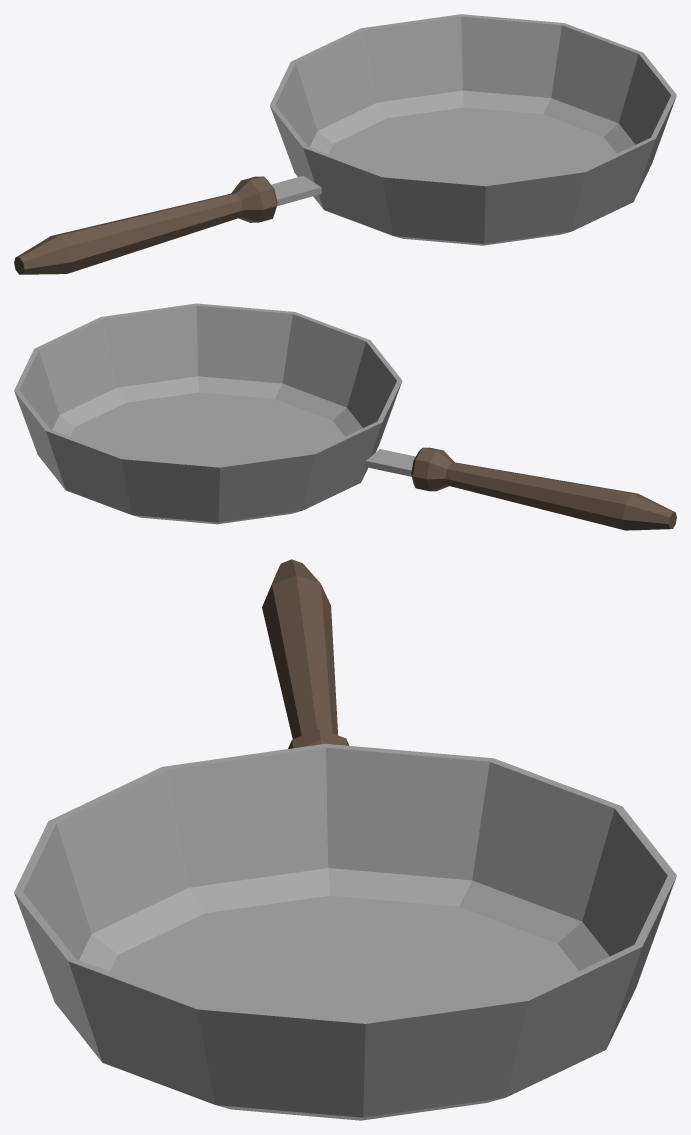
Rendered from Pan_1.fbx.
3 renders of one model, top to bottom at view 1: azimuth 30°, elevation 25°; view 2: azimuth 150°, elevation 25°; view 3: azimuth 270°, elevation 25°, orthographic. The views are drawn at different scales.
Visible parts, largest first — view 1: Pan_1; view 2: Pan_1; view 3: Pan_1.
Part boxes in pixels (<box>): Pan_1: <box>14,14,676,274</box>; Pan_1: <box>14,303,676,530</box>; Pan_1: <box>14,559,676,1120</box>.
Size of the model in its own units: 56.32 by 30.68 by 6.56.
